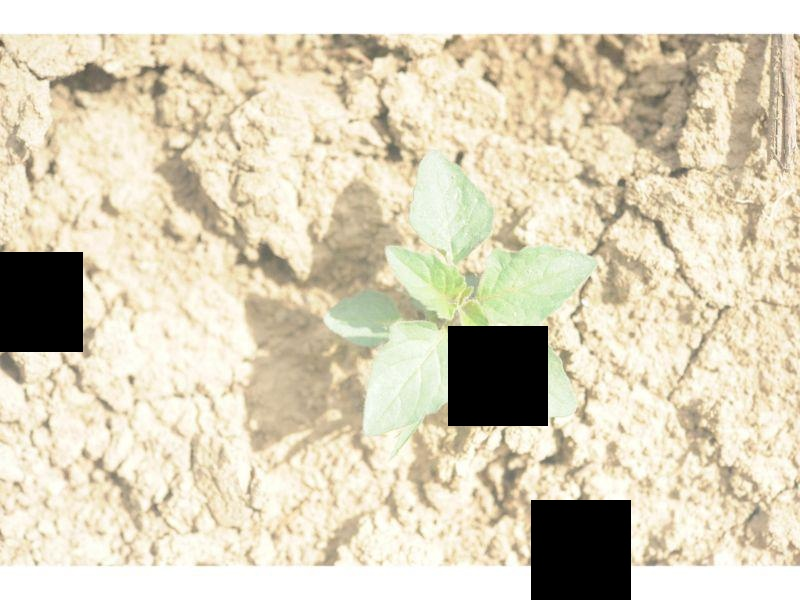nightshade: (325, 148, 597, 436)
